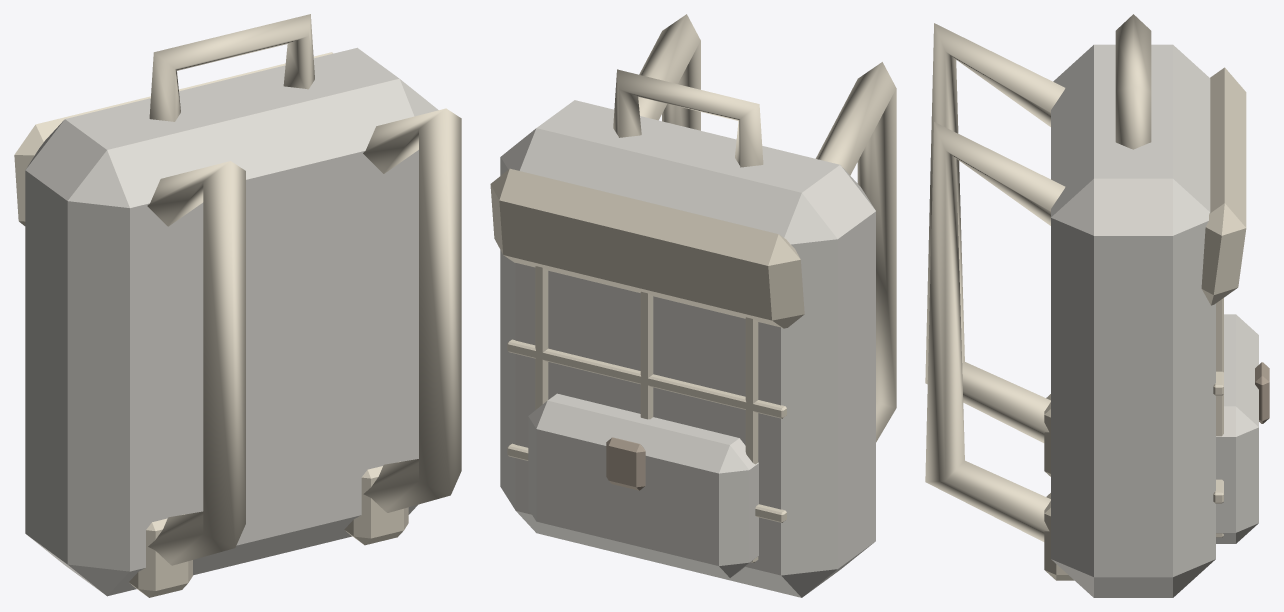
The model's file is BackpackCotton.glb.
3 views of the same model, side by side, from view 1: azimuth 30°, elevation 25°; view 2: azimuth 150°, elevation 25°; view 3: azimuth 270°, elevation 25° (orthographic). The views are drawn at different scales.
Parts seen in each view (by area): view 1: PackBody, ShoulderStrap_R, ShoulderStrap_L, CarryHandle, BottomStrapAnchor_R, BottomStrapAnchor_L, TopFlap; view 2: PackBody, FrontPocket, TopFlap, ShoulderStrap_L, CarryHandle, ShoulderStrap_R, QuiltSeamH.001, QuiltSeamV, QuiltSeamV.002, PocketBuckle, QuiltSeamV.001, QuiltSeamH; view 3: PackBody, ShoulderStrap_R, ShoulderStrap_L, TopFlap, FrontPocket, CarryHandle, QuiltSeamV.002, BottomStrapAnchor_R, PocketBuckle, BottomStrapAnchor_L.
Boxes of the visible parts, x1,y1,x2,y2 form: PackBody: (25, 47, 438, 596); ShoulderStrap_R: (363, 108, 461, 512); ShoulderStrap_L: (147, 161, 245, 565); CarryHandle: (149, 14, 314, 121); BottomStrapAnchor_R: (344, 461, 408, 545); BottomStrapAnchor_L: (129, 514, 192, 597); TopFlap: (14, 52, 333, 225); PackBody: (500, 100, 875, 597); FrontPocket: (528, 393, 758, 577); TopFlap: (490, 168, 804, 328); ShoulderStrap_L: (815, 62, 896, 442); CarryHandle: (613, 69, 763, 167); ShoulderStrap_R: (638, 14, 700, 130); QuiltSeamH.001: (507, 339, 786, 418); QuiltSeamV: (745, 317, 758, 562); QuiltSeamV.002: (535, 266, 548, 409); PocketBuckle: (606, 437, 645, 490); QuiltSeamV.001: (640, 291, 653, 419); QuiltSeamH: (507, 443, 786, 522); PackBody: (1051, 44, 1215, 597); ShoulderStrap_R: (925, 122, 1065, 541); ShoulderStrap_L: (925, 23, 1065, 442); TopFlap: (1201, 67, 1246, 305); FrontPocket: (1216, 314, 1258, 543); CarryHandle: (1115, 14, 1151, 149); QuiltSeamV.002: (1216, 298, 1223, 537); BottomStrapAnchor_R: (1044, 493, 1074, 580); PocketBuckle: (1255, 362, 1269, 423); BottomStrapAnchor_L: (1044, 394, 1050, 476).
Size of the model in its own units: 0.61 by 0.8031 by 0.521.
